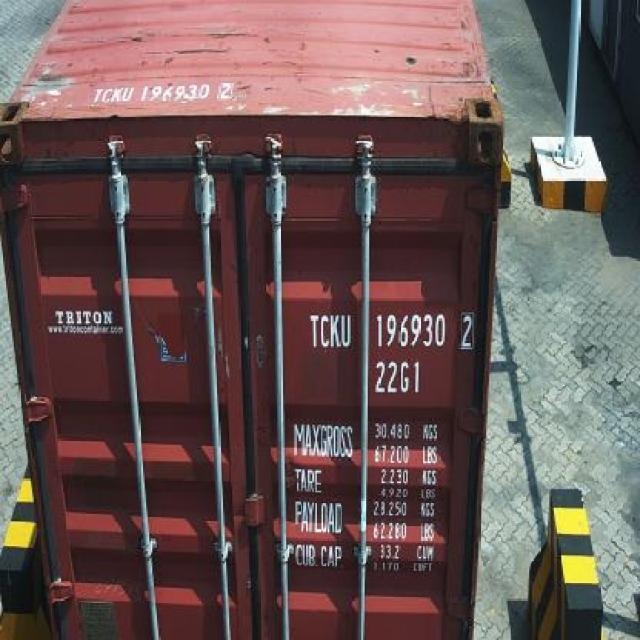ISO: (372, 358, 423, 392)
container_number: (310, 313, 474, 349)
